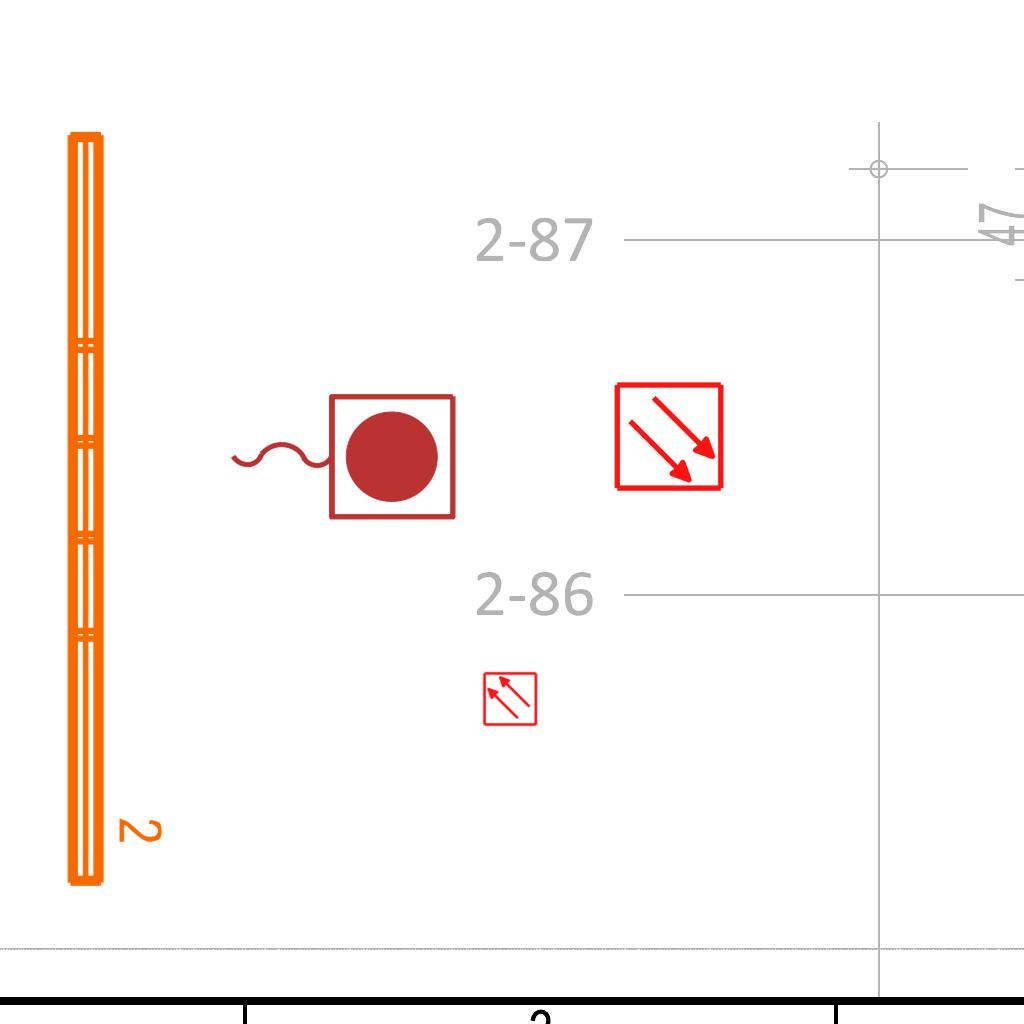Ambulanz_Pendelleuchte_LED: (55, 121, 167, 895)
RMO_Rauchmelder_optischer: (613, 380, 726, 493), (482, 671, 538, 727)
Zugtaster: (220, 383, 464, 527)
